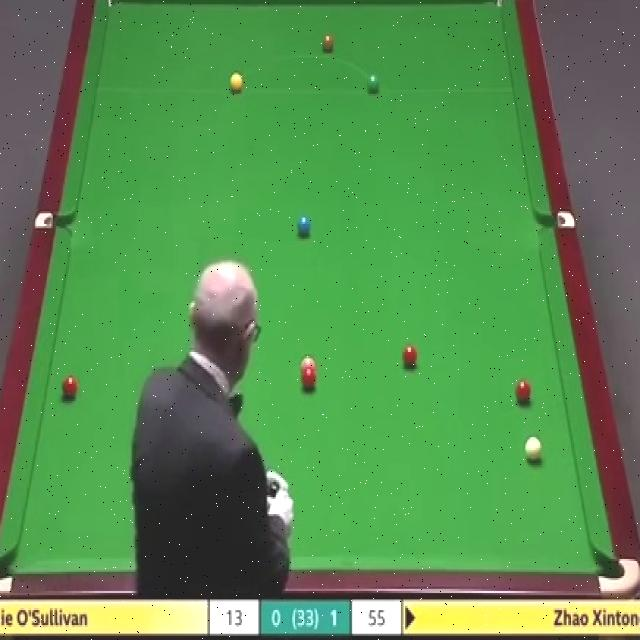blue-ball: (297, 213, 312, 237)
brown-ball: (321, 33, 334, 54)
green-ball: (366, 72, 380, 94)
pink-ball: (300, 356, 316, 372)
red-ball: (514, 378, 532, 404), (62, 373, 78, 401), (402, 345, 420, 369), (300, 368, 317, 391)
white-ball: (524, 438, 542, 464)
yellow-ball: (232, 74, 245, 95)
